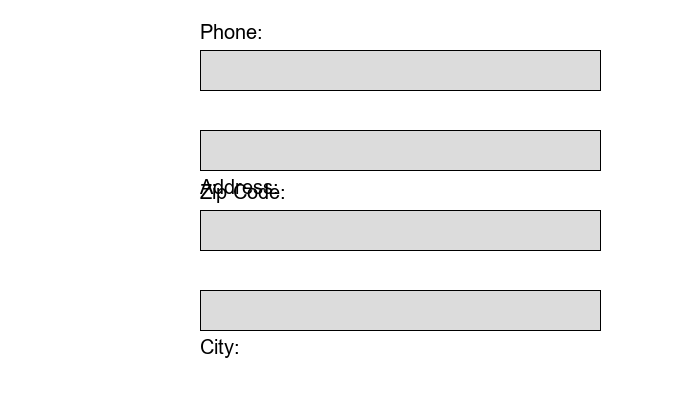Label: (200, 180, 280, 199), (200, 175, 274, 190), (200, 20, 257, 35), (200, 335, 234, 354)
Textbox: (200, 50, 600, 90), (200, 130, 600, 170), (200, 210, 600, 250), (200, 290, 600, 330)
